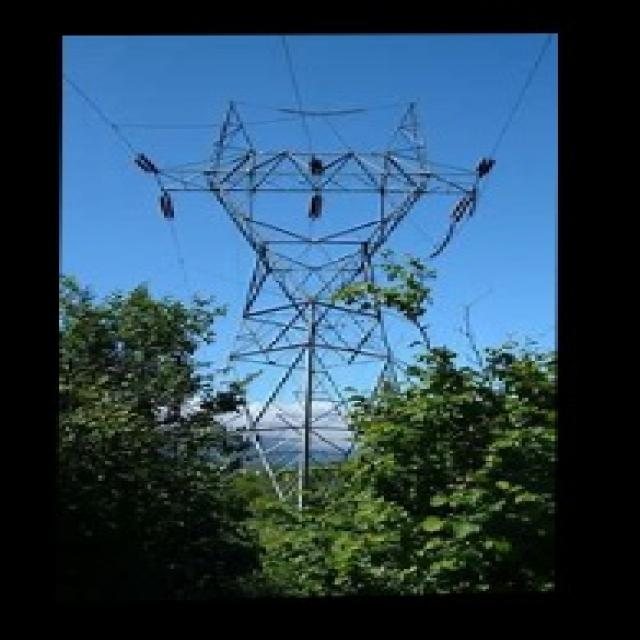utility poles: (314, 262, 542, 456), (126, 289, 289, 489)
